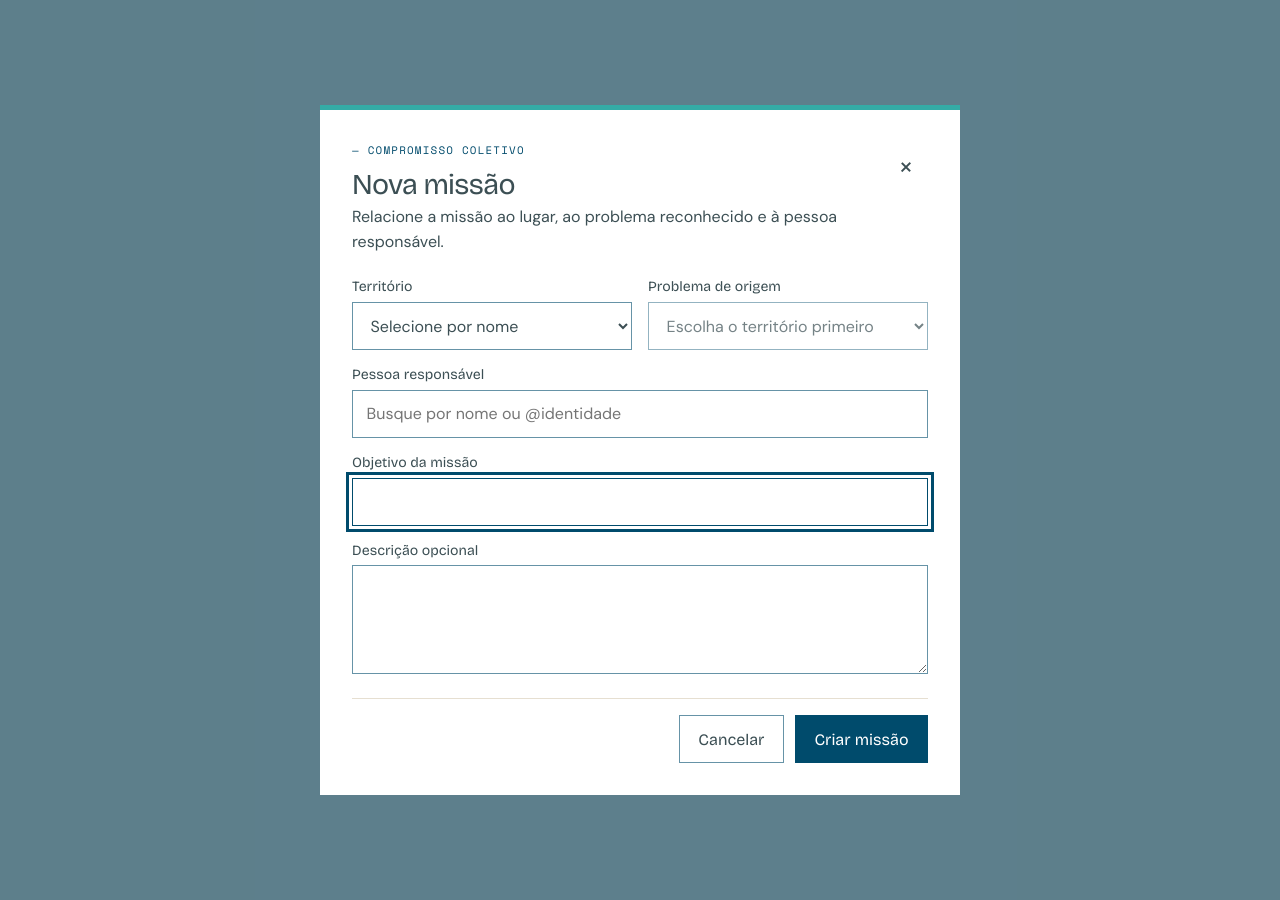
Test case: RelationalEntityDialog › creates a mission from named territory, problem and person selections
Select "Nascente Sul" in the dropdown labelled "Território": point(492, 326) [352,302,632,350]
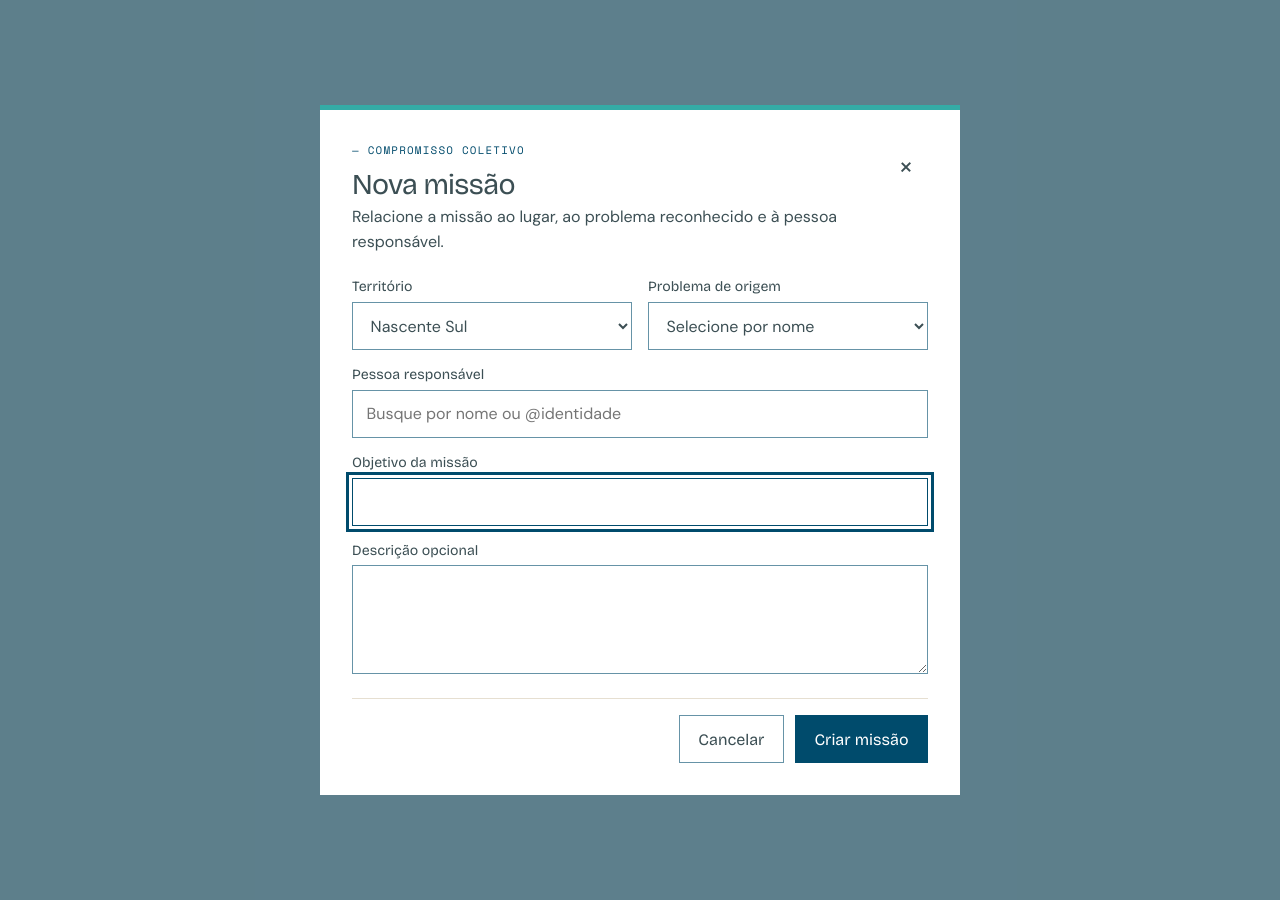
Select "Água turva" in the dropdown labelled "Problema de origem": point(788, 326) [648,302,928,350]
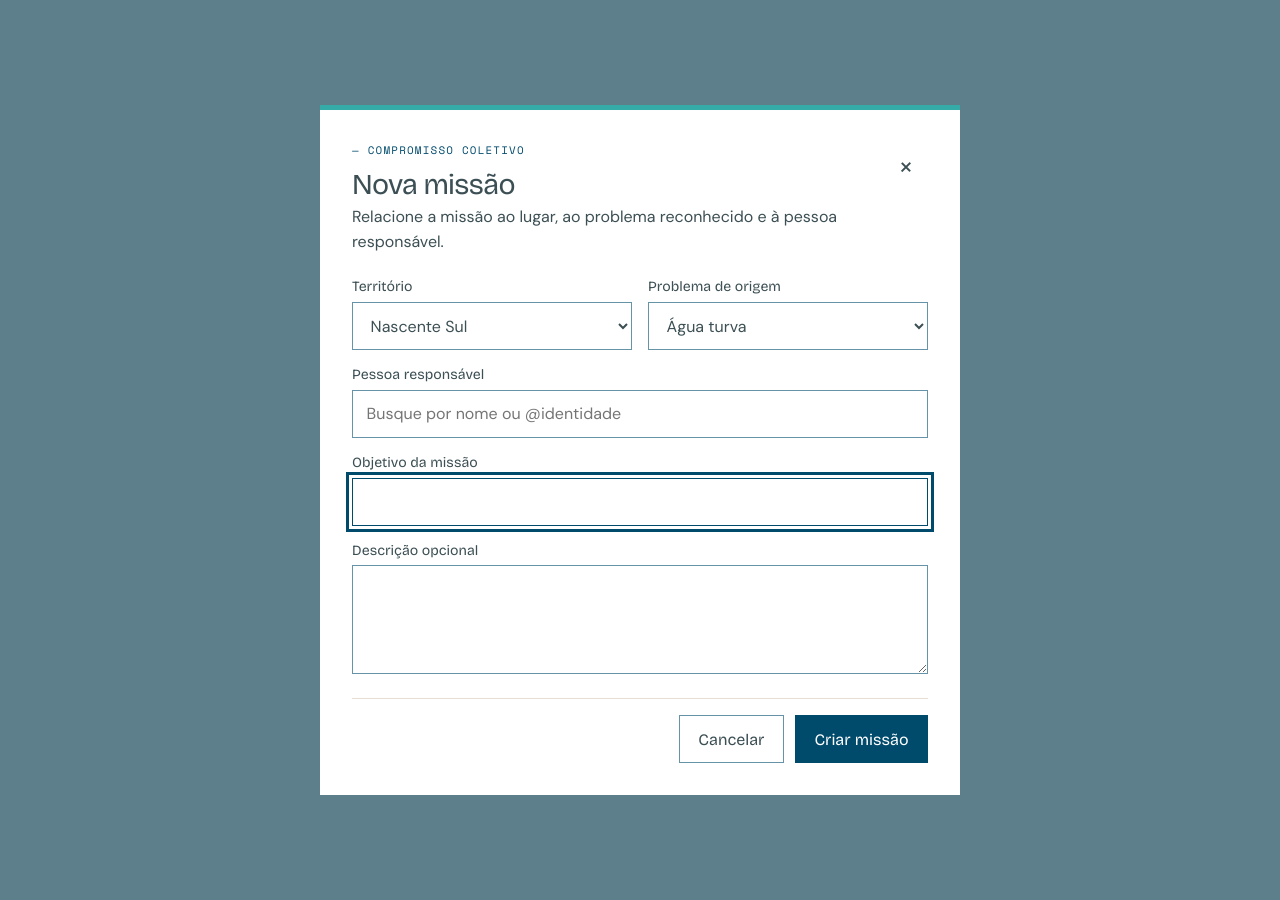
In the dropdown labelled "Pessoa responsável": point(640, 414) [352,390,928,438], type "Ana"
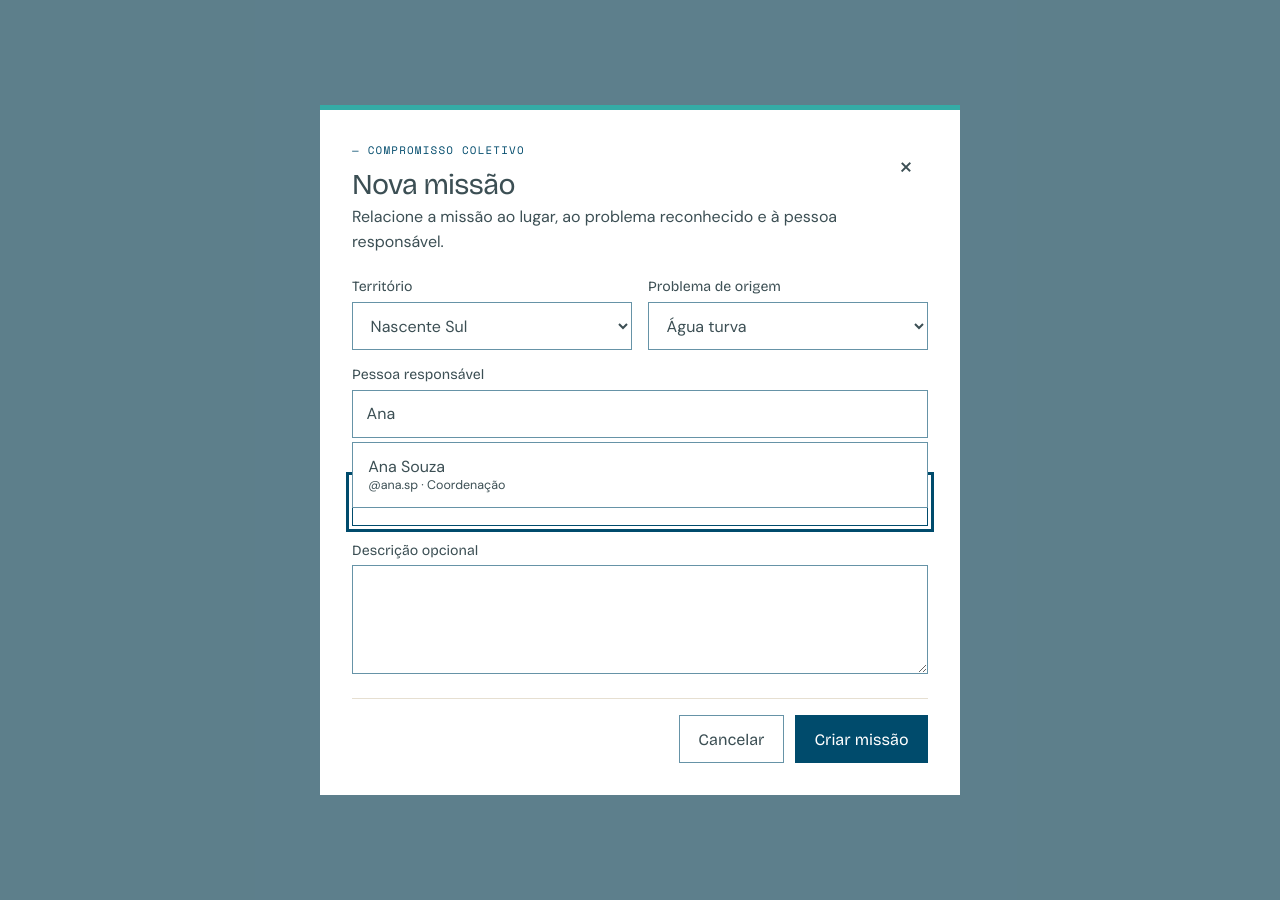
expect the option "Ana Souza @ana.sp · Coordenação" is shown: met, box [368,456,505,493]
Press ArrowDown in the dropdown labelled "Pessoa responsável", box [352,390,928,438]
Press Enter in the dropdown labelled "Pessoa responsável", box [352,390,928,438]
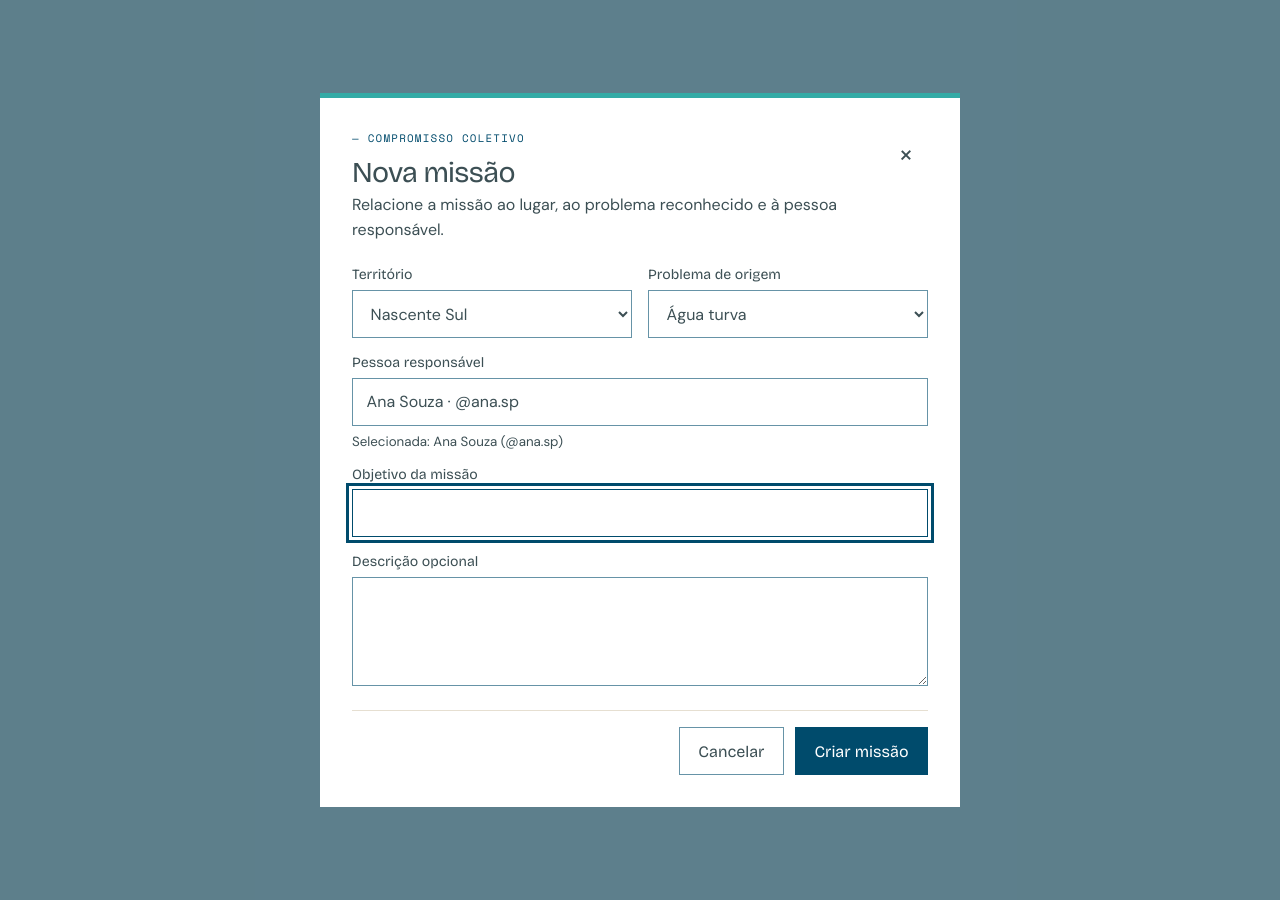
In the field labelled "Objetivo da missão": point(640, 513) [352,489,928,537], type "Recuperar a nascente"
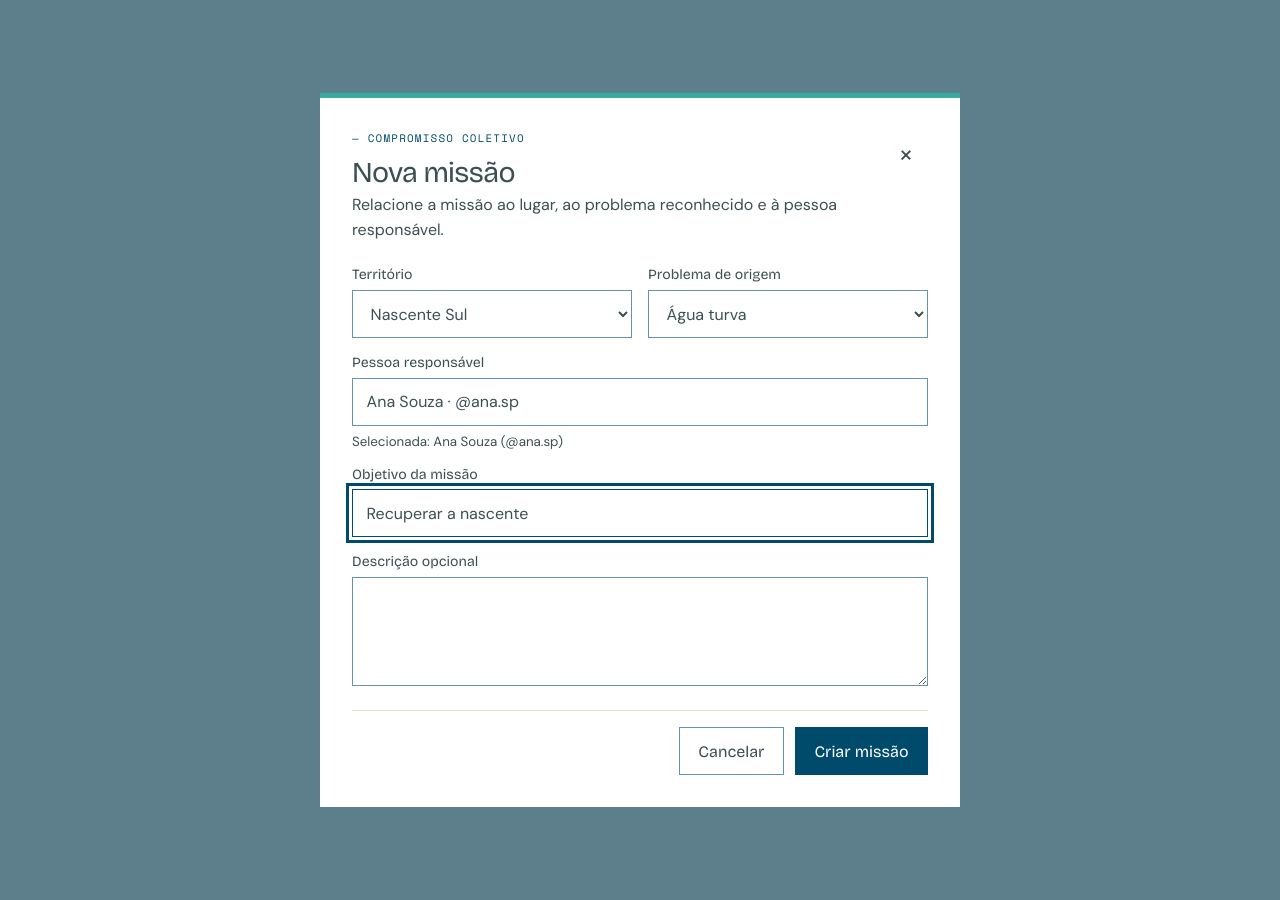
Click the button "Criar missão": point(862, 751) [795,727,928,775]
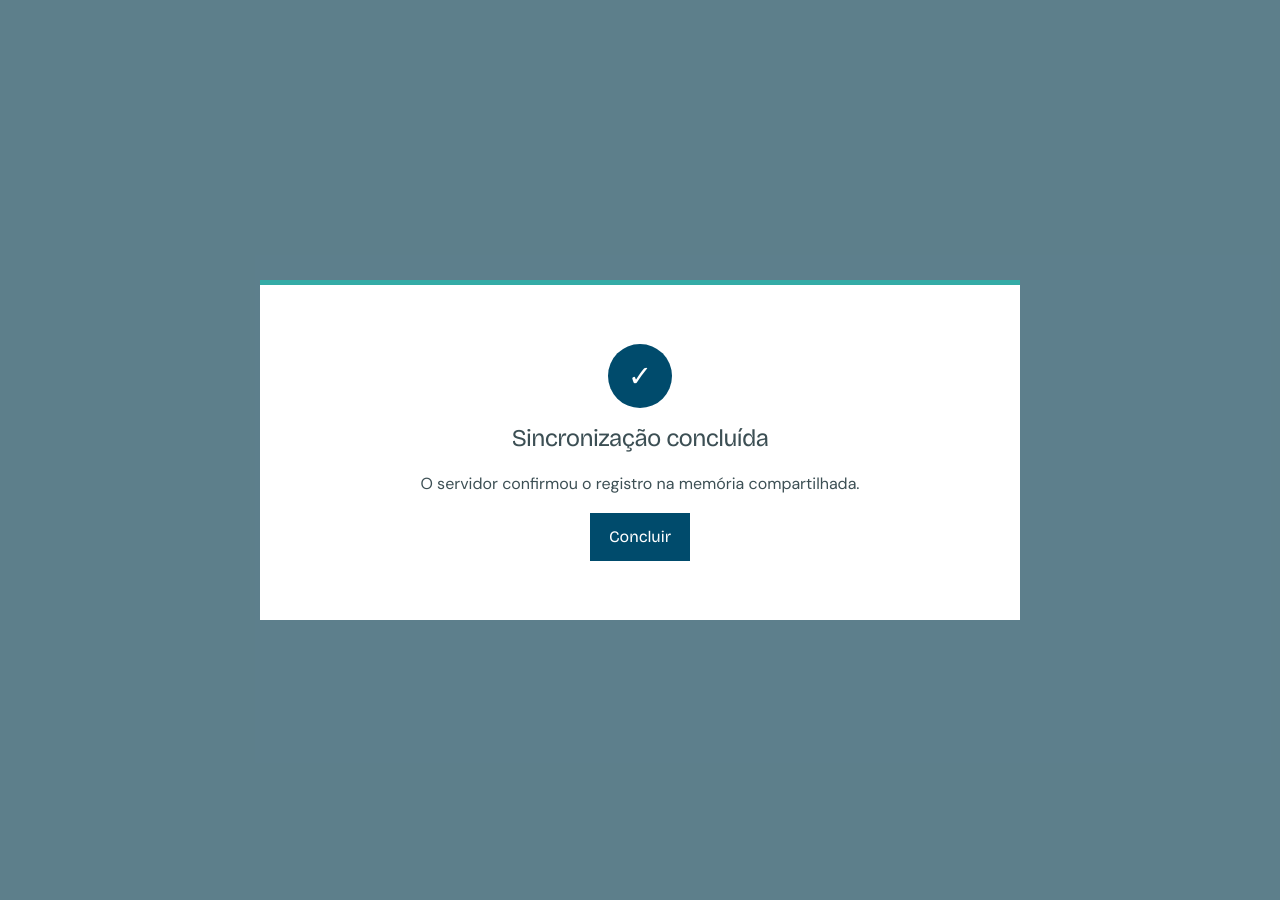
expect the message shows "Sincronização concluída": met, box [512,424,768,452]
